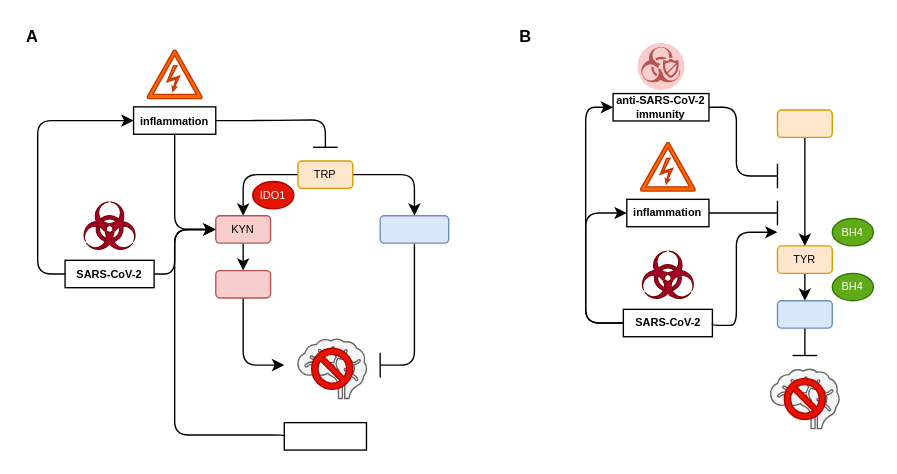
Image size: 897x474. Some labels were removed from this diagram. The box of each missing label's shape, as (x1, y1, x2, y2) in pixels:
dopamine: (776, 299, 832, 328)
PHE: (776, 109, 832, 137)
QUIN: (214, 269, 271, 298)
serotonin: (379, 214, 449, 243)
stress: (283, 421, 366, 450)
